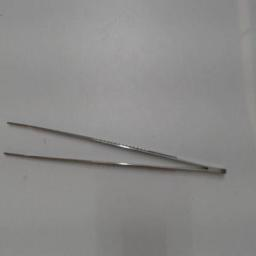DeBakey Dissector: (2, 112, 234, 182)
